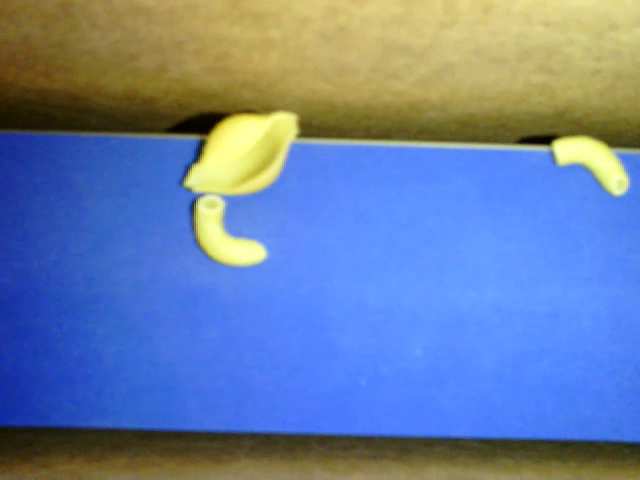elbow: (194, 193, 267, 267), (553, 133, 630, 195)
shell: (178, 110, 301, 197)
